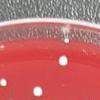white: (30, 85, 45, 100), (58, 54, 70, 69), (0, 76, 9, 90), (62, 37, 71, 44)
